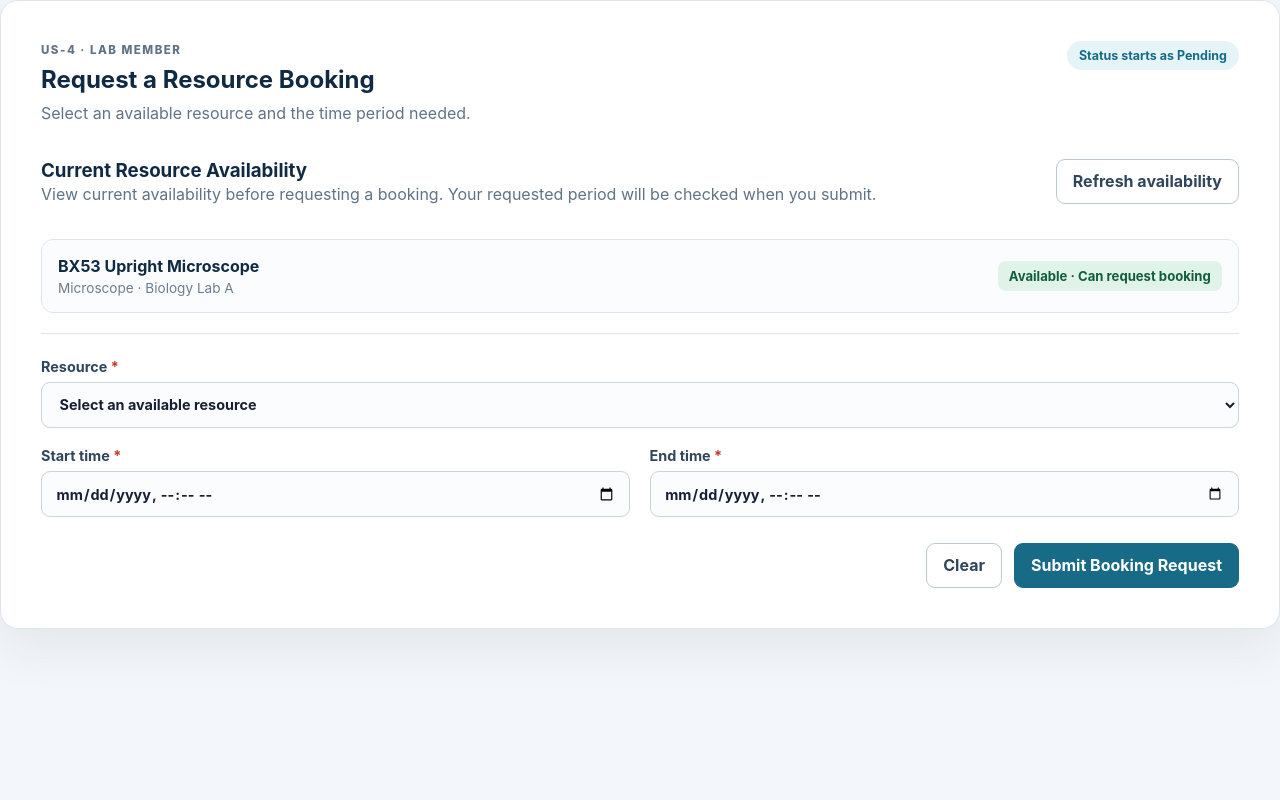
Test: BookingForm › does not show stale availability or accept bookings after refresh fails
Select "BX53 Upright Microscope · Biology Lab A · Available · Can request booking" in the dropdown labelled "Resource *" at (640,405), box top-left (41, 382), bottom-right (1239, 428)
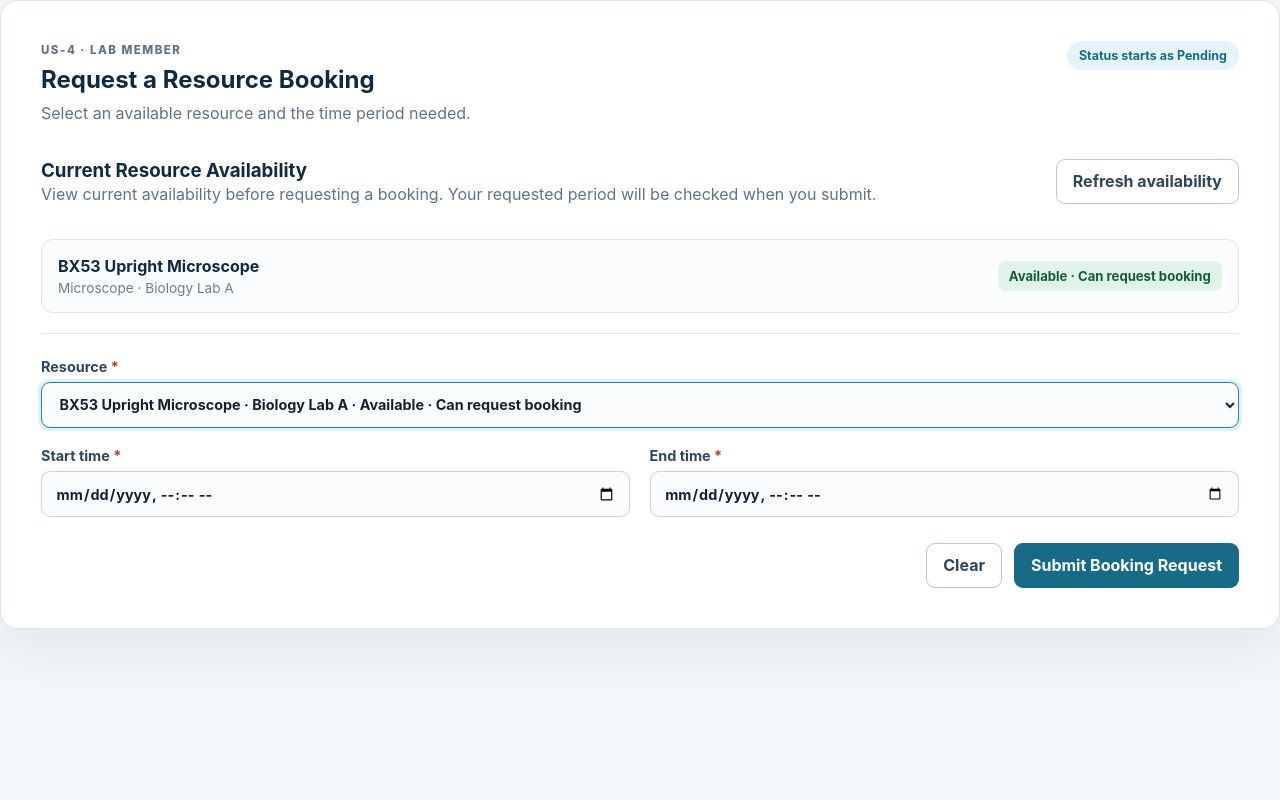
Type "2026-10-10T09:00" into the field labelled "Start time *" at (336,494), box top-left (41, 471), bottom-right (630, 517)
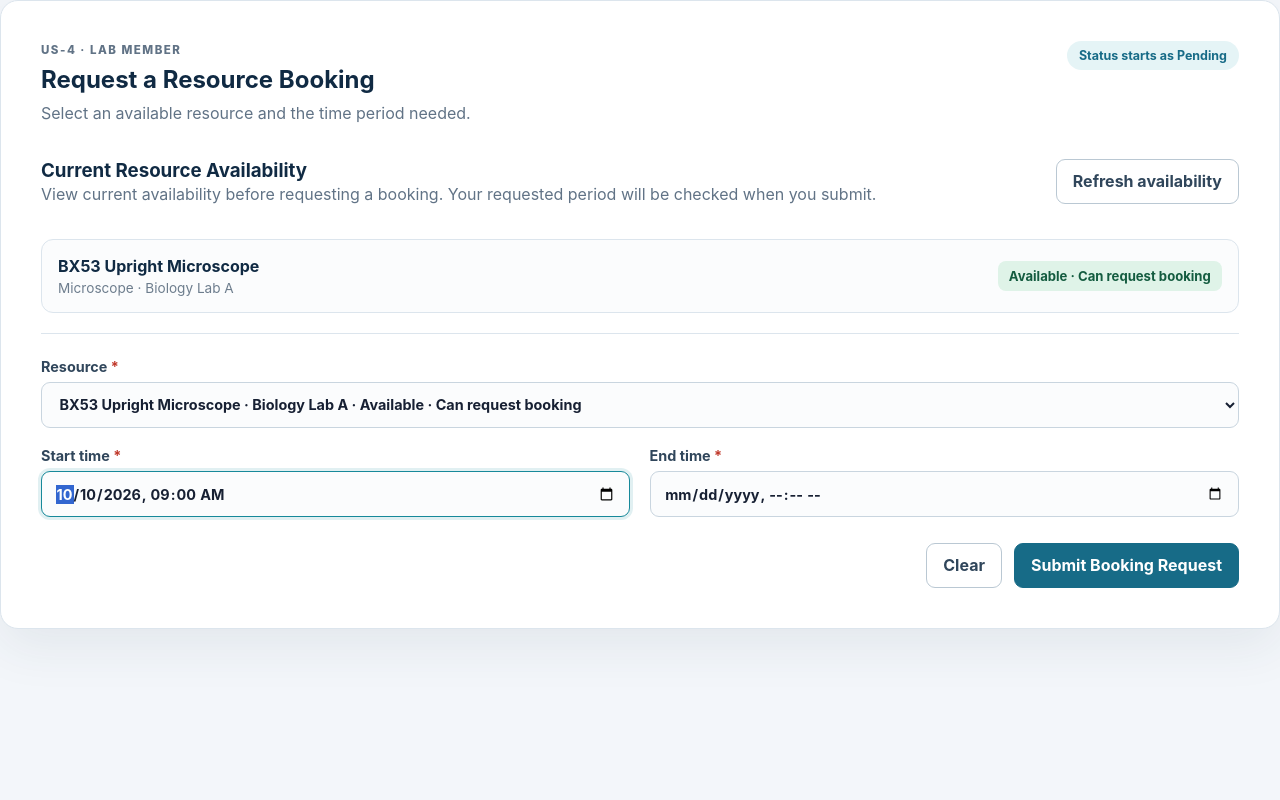
Type "2026-10-10T11:00" into the field labelled "End time *" at (944,494), box top-left (650, 471), bottom-right (1239, 517)
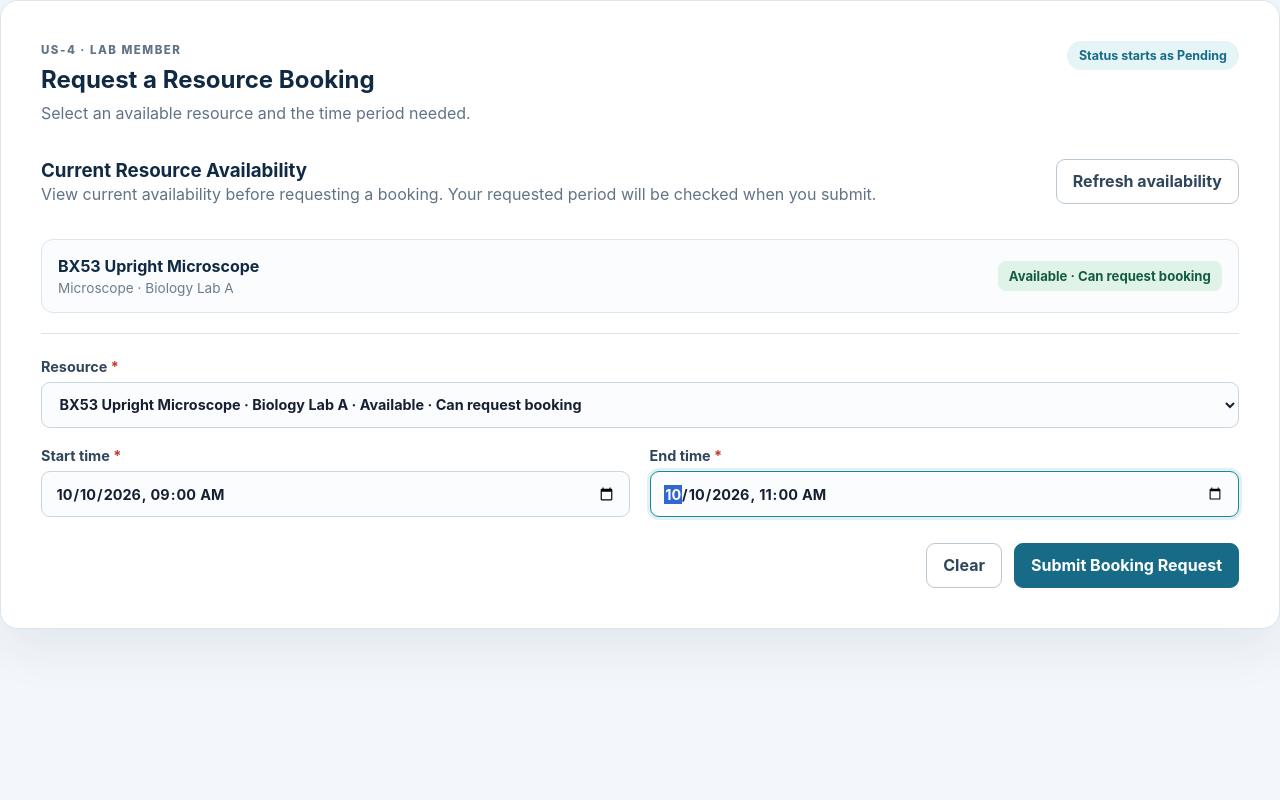
Click the button "Refresh availability" at (1147,181), box top-left (1056, 159), bottom-right (1239, 204)
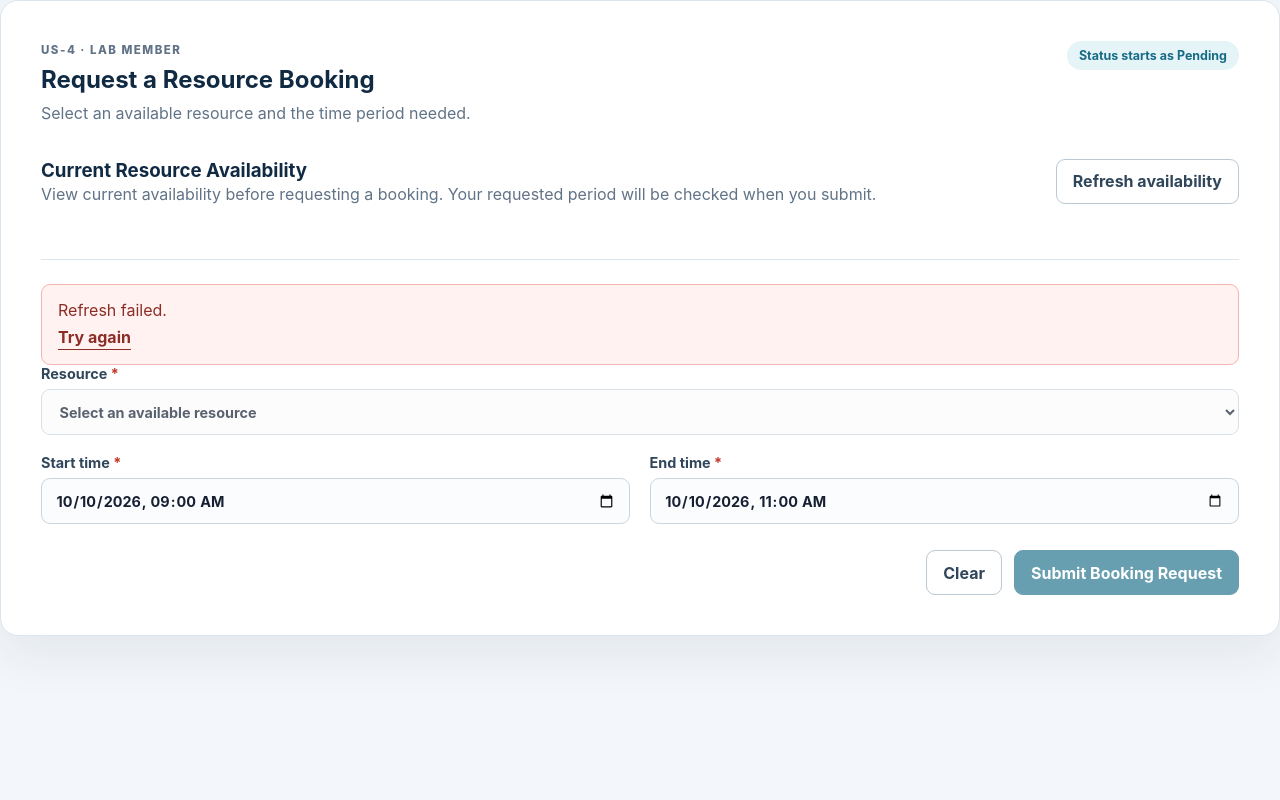
Result: the message shows "Refresh failed." at top-left (58, 300), bottom-right (167, 320)
Result: the heading "BX53 Upright Microscope" is gone
Result: the button "Submit Booking Request" is disabled at top-left (1014, 550), bottom-right (1239, 595)
